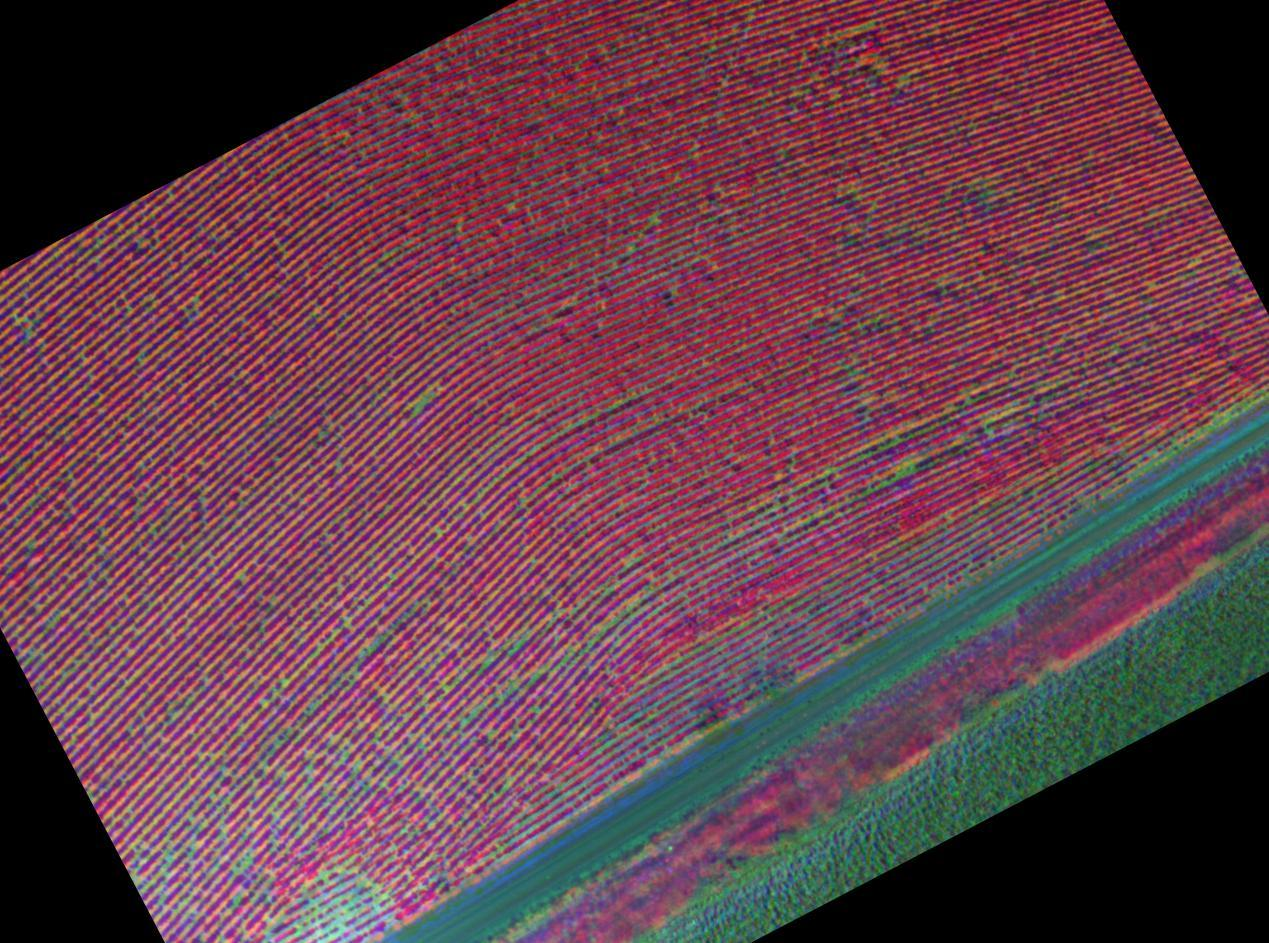dc: (650, 217, 655, 223), (900, 471, 906, 476), (509, 204, 513, 211), (283, 680, 289, 684), (532, 707, 538, 711), (445, 687, 450, 691), (900, 77, 904, 80)
